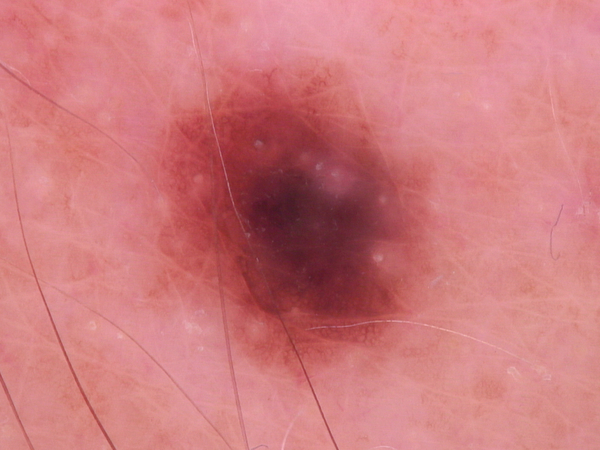Detected Lesion: (140, 58, 435, 381)
